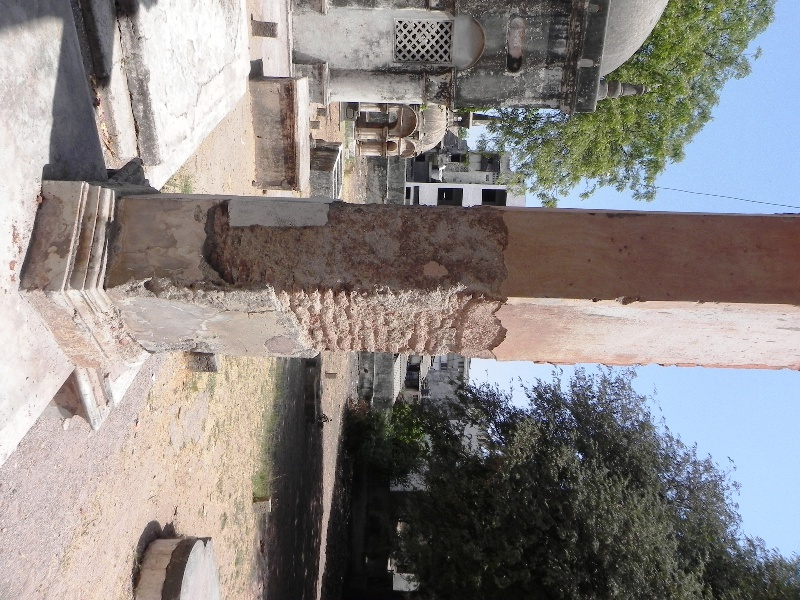Exposed Bricks: (281, 294, 453, 349)
Spalling: (197, 196, 516, 296), (457, 300, 509, 362)
